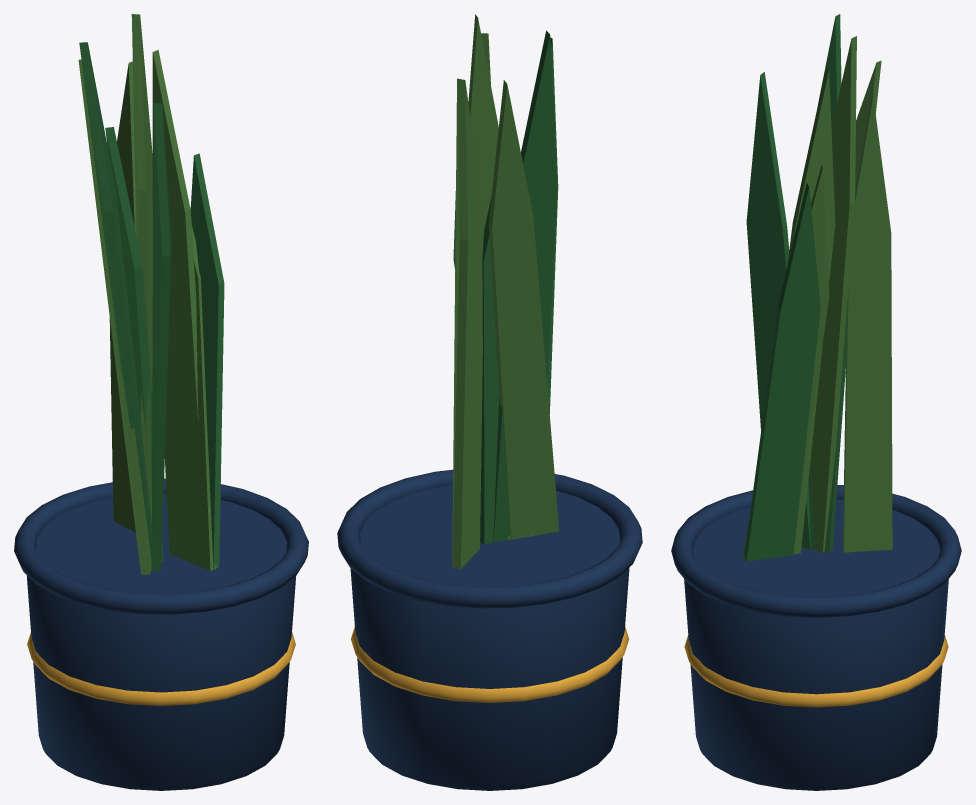
Rendered from plant_snake.glb.
The picture shows the model from 3 angles, left to right: view 1: azimuth 30°, elevation 25°; view 2: azimuth 150°, elevation 25°; view 3: azimuth 270°, elevation 25°; orthographic projection. The views are drawn at different scales.
Parts seen in each view (by area): view 1: PlantSnakeBody; view 2: PlantSnakeBody; view 3: PlantSnakeBody.
Boxes of the visible parts, x1,y1,x2,y2 form: PlantSnakeBody: [14, 14, 308, 790]; PlantSnakeBody: [337, 14, 642, 790]; PlantSnakeBody: [671, 14, 961, 790].
Bounding box in the file's own units: 0.4114 × 1.1 × 0.4114.
